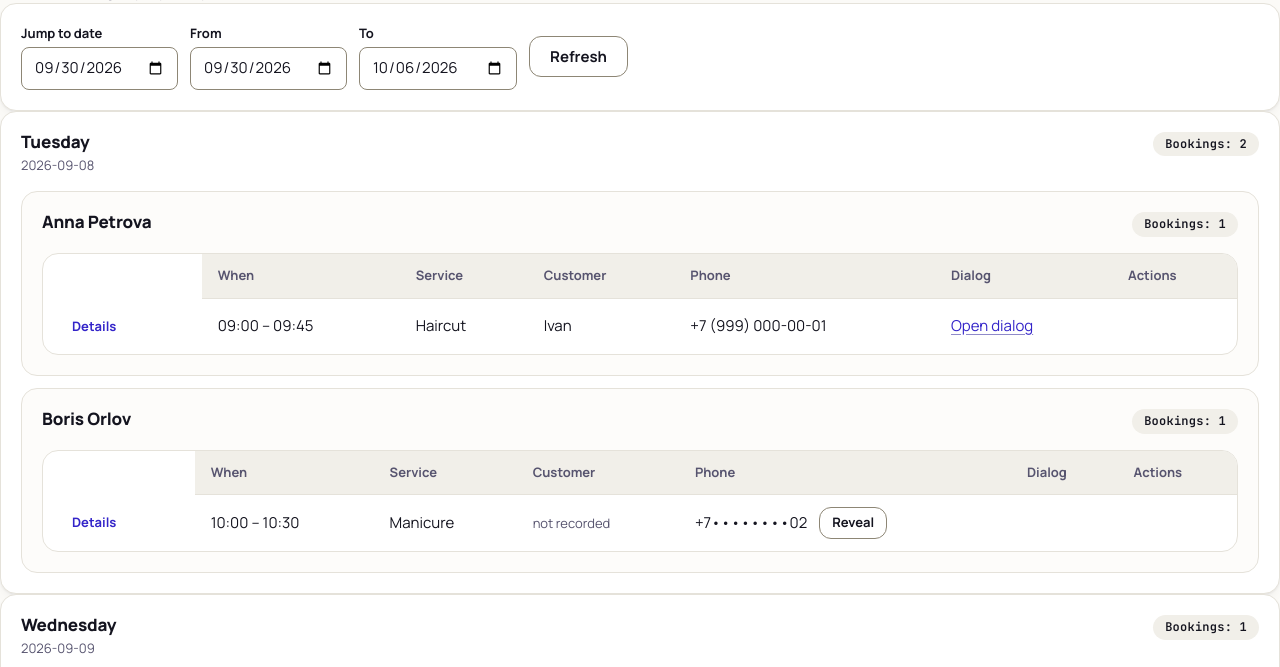
confirmed-booking detail panel (26-272) › never shows a dialog row in the detail for a booking with no chat origin (absent, not disabled)
Click the button "Details" next to "10:00": (94,523) [59,507,129,539]
(page scrolled)
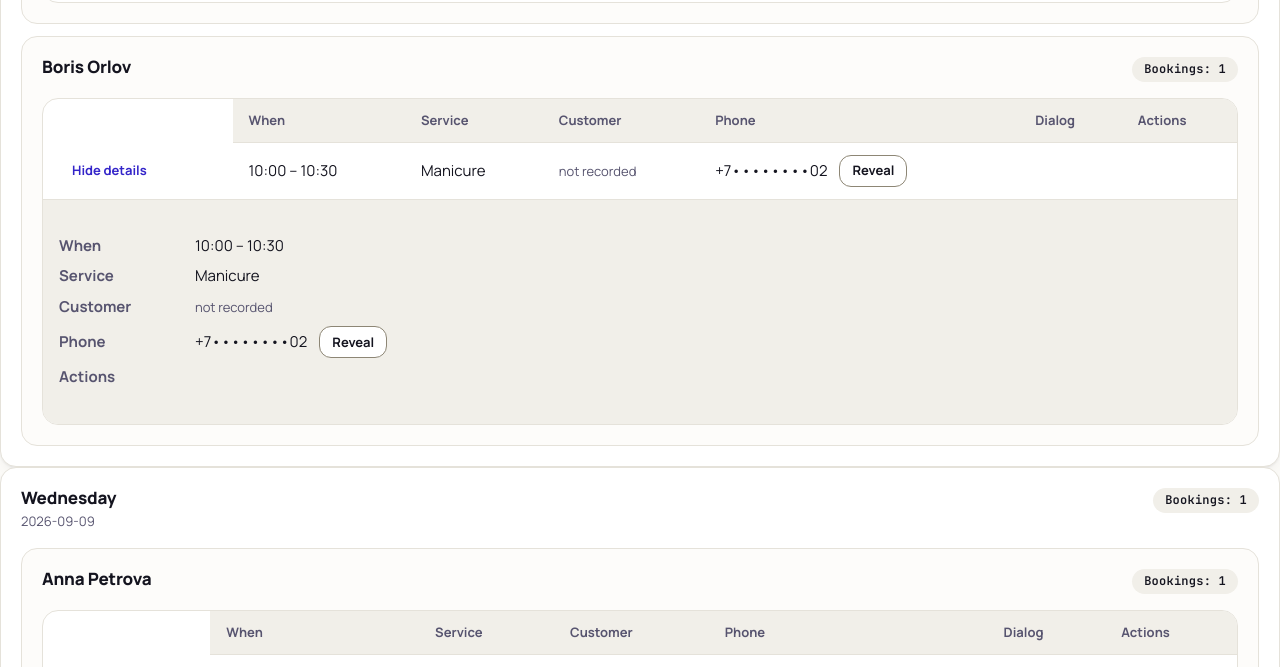
Check: the element with class "ago-table__detail" shows "Manicure", box [195,266,260,286]
